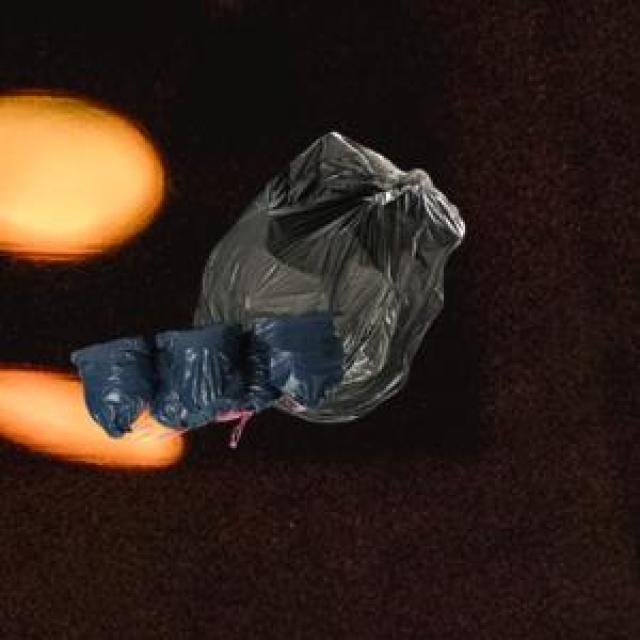Vinyl: (71, 132, 465, 436)
